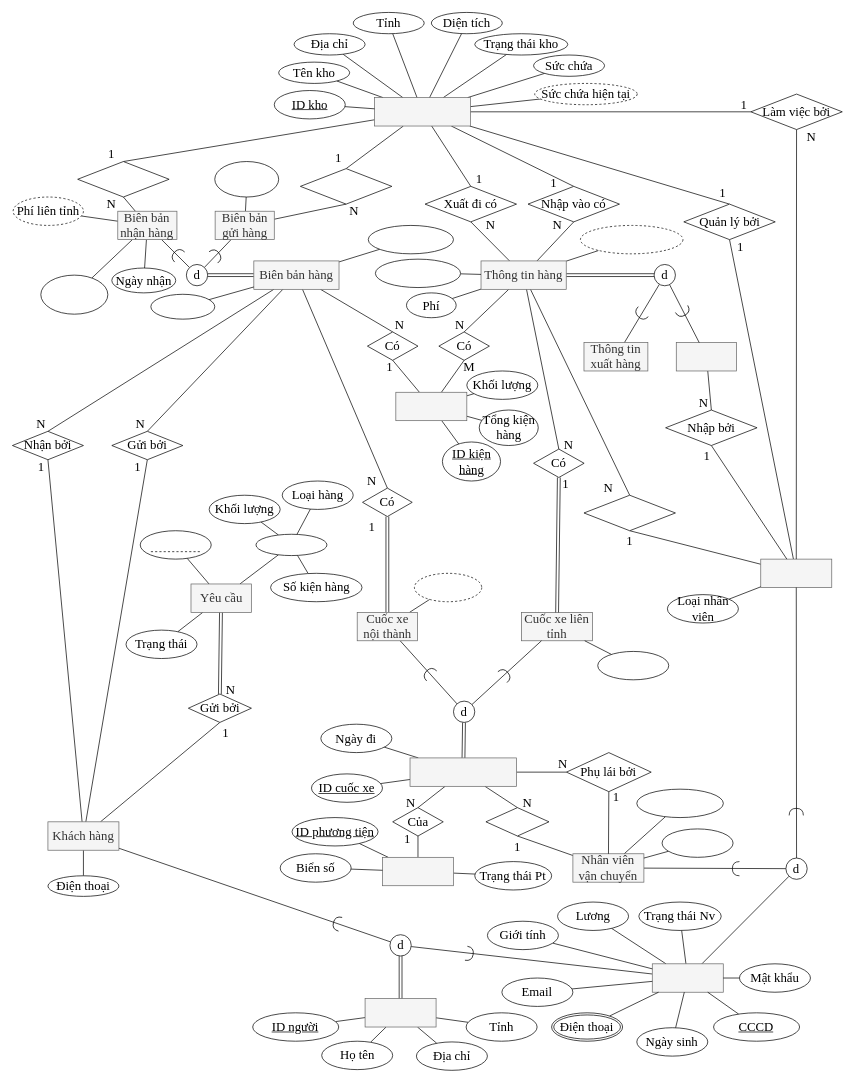
Image size: 855x1083. Some labels were removed from this diagram. The shapes that lost their labels are listed below. From the top down, each one's centre as x and y in pixels, then its label:
pixel 422 111: Kho
pixel 123 179: Nhận về có
pixel 246 179: Phí lấy hàng gửi
pixel 346 186: Gửi đi có
pixel 410 239: ID biên bản
pixel 631 239: Lượng hàng hóa
pixel 418 273: ID thông tin
pixel 74 294: Phí giao hàng nhận
pixel 182 306: Ngày gửi
pixel 706 356: Thông tin nhập hàng
pixel 431 406: Kiện hàng
pixel 629 513: Xuất bởi
pixel 175 544: ID yêu cầu
pixel 291 545: Ước lượng
pixel 448 587: Doanh thu
pixel 796 573: Nhân viên kho
pixel 633 665: Ngày đến
pixel 463 771: Thông tin cuốc xe
pixel 517 821: Lái bởi
pixel 679 803: Loại bằng lái
pixel 697 842: Ngày cấp
pixel 417 871: Phương tiện
pixel 687 977: Nhân viên
pixel 400 1012: Người
